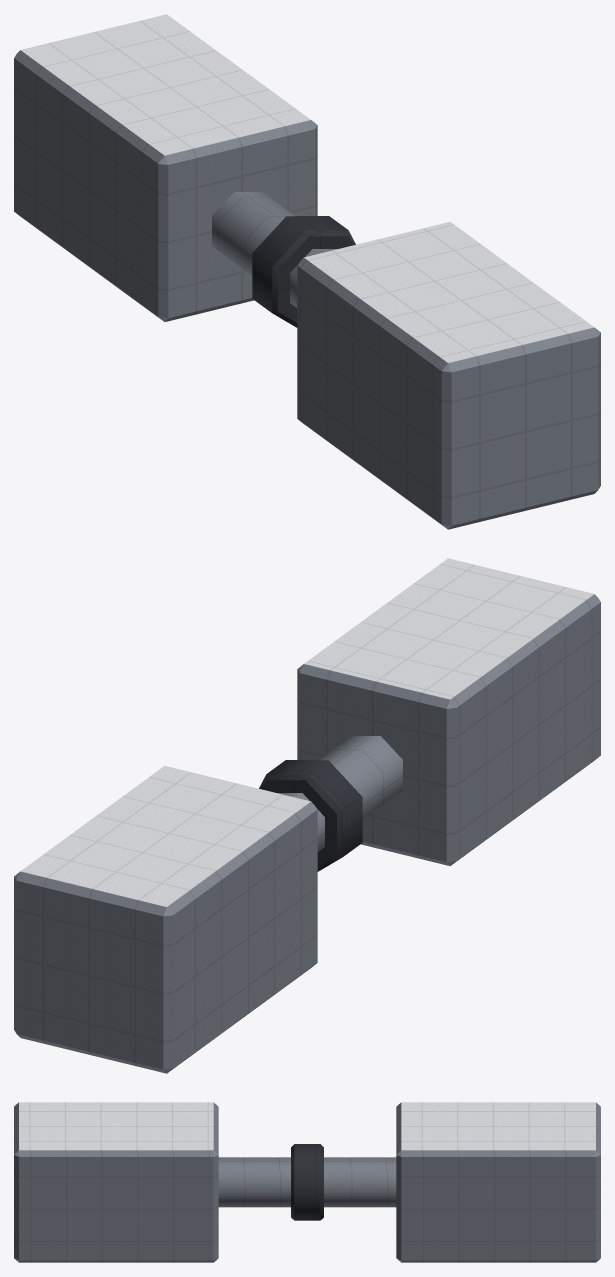
Rendered from R4C_ROD_SHORT_LOD1.glb.
The picture shows the model from 3 angles, top to bottom: view 1: azimuth 30°, elevation 25°; view 2: azimuth 150°, elevation 25°; view 3: azimuth 270°, elevation 25°; orthographic projection. The views are drawn at different scales.
Parts seen in each view (by area): view 1: R4C_ROD_SHORT_LOD1; view 2: R4C_ROD_SHORT_LOD1; view 3: R4C_ROD_SHORT_LOD1.
Part boxes in pixels (x1=…): R4C_ROD_SHORT_LOD1: x1=14, y1=14, x2=600, y2=529; R4C_ROD_SHORT_LOD1: x1=14, y1=558, x2=600, y2=1073; R4C_ROD_SHORT_LOD1: x1=14, y1=1102, x2=600, y2=1262.
Size of the model in its own units: 0.226 by 0.226 by 1.07.
Materials: 3 (3 with a texture image).
